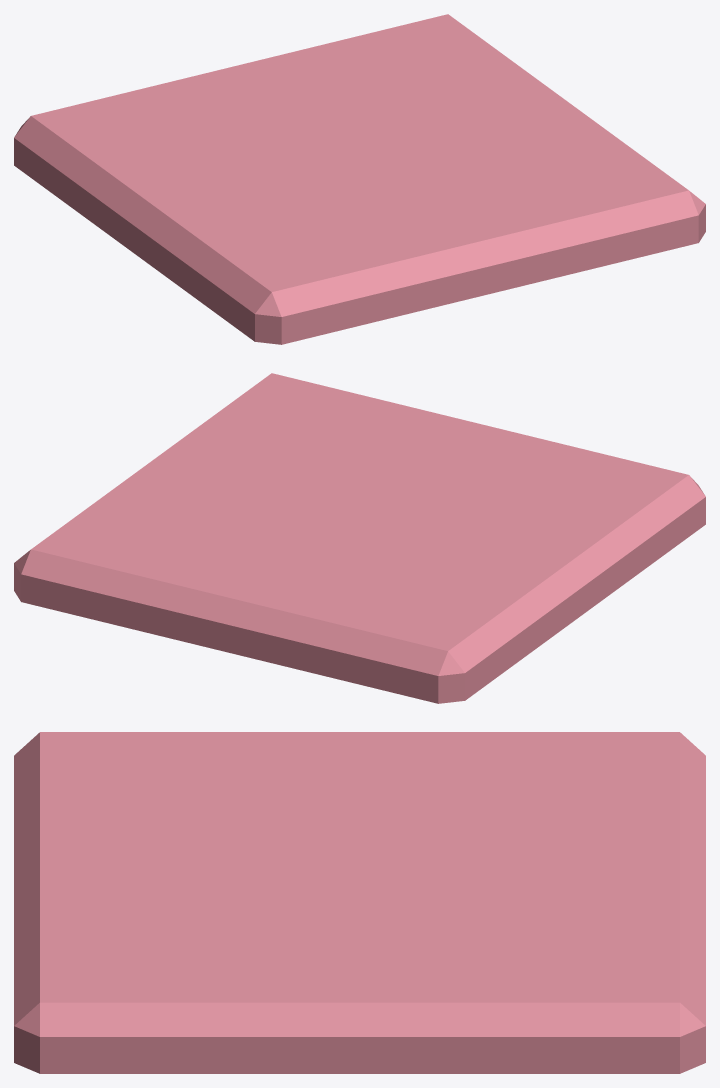
Rendered from ped.glb.
3 renders of one model, top to bottom at view 1: azimuth 30°, elevation 25°; view 2: azimuth 150°, elevation 25°; view 3: azimuth 270°, elevation 25°, orthographic. The views are drawn at different scales.
Parts seen in each view (by area): view 1: Cube; view 2: Cube; view 3: Cube.
Part boxes in pixels (x1,y1,x2,y2): Cube: (14,14,705,344); Cube: (14,373,705,703); Cube: (14,732,705,1073).
Bounding box in the file's own units: 2 × 0.1927 × 2.
